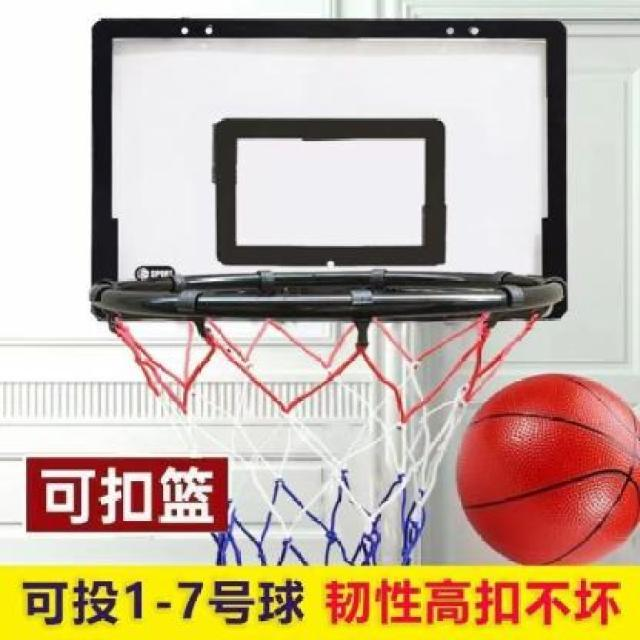basketball: (455, 372, 640, 565)
rim: (110, 288, 550, 572)
